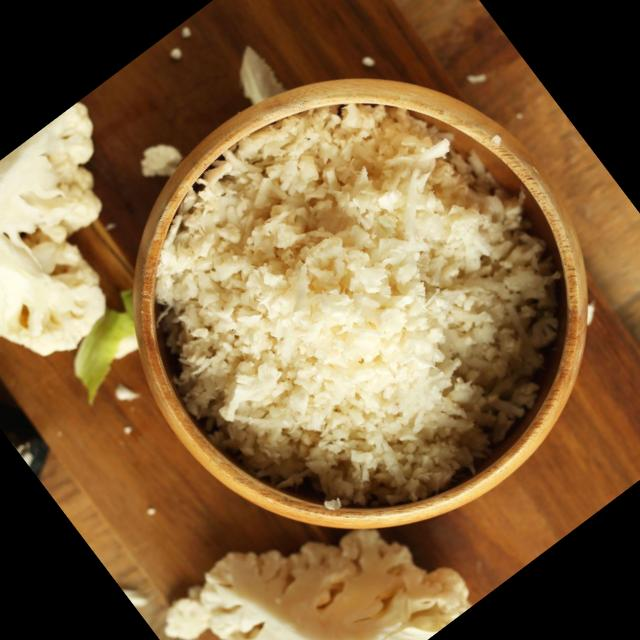rice: (159, 101, 562, 502)
